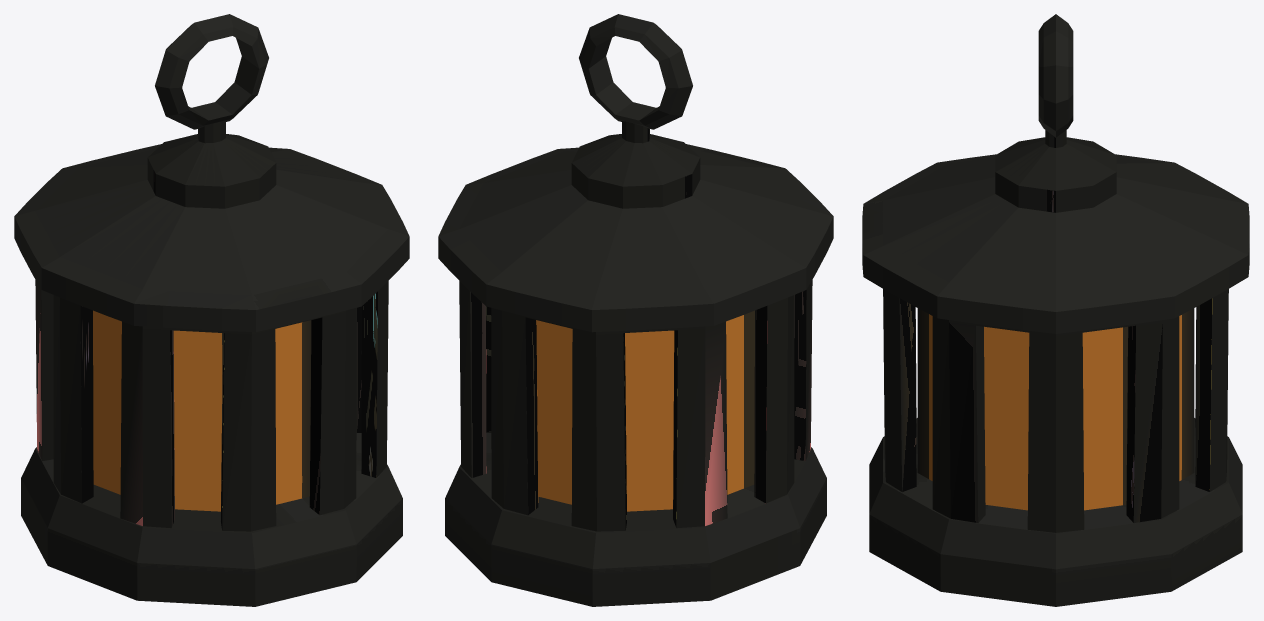
File: lantern.gltf
3 renders of one model, left to right at view 1: azimuth 30°, elevation 25°; view 2: azimuth 150°, elevation 25°; view 3: azimuth 270°, elevation 25°, orthographic.
Visible parts, largest first — view 1: Lantern; view 2: Lantern; view 3: Lantern.
Part boxes in pixels (x1,y1,x2,y2): Lantern: (14,14,409,606); Lantern: (438,14,833,606); Lantern: (862,14,1249,606).
Size of the model in its own units: 0.3635 by 0.55 by 0.3602.
Materials: 1 (1 with a texture image).
